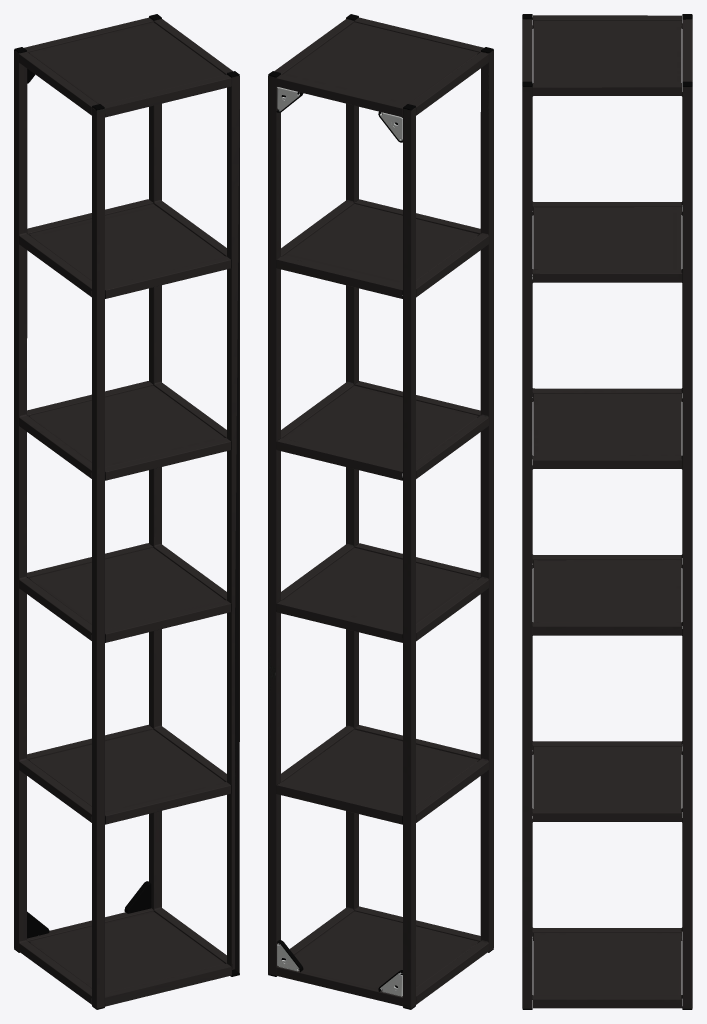
File: enhet_obudowa_wysoka_z_pokami_20448947.glb
The picture shows the model from 3 angles, left to right: view 1: azimuth 30°, elevation 25°; view 2: azimuth 150°, elevation 25°; view 3: azimuth 270°, elevation 25°; orthographic projection. The views are drawn at different scales.
Parts seen in each view (by area): view 1: enhet_obudowa_wysoka_z_pokami_20448947; view 2: enhet_obudowa_wysoka_z_pokami_20448947; view 3: enhet_obudowa_wysoka_z_pokami_20448947.
Part boxes in pixels (bbox=[...]): enhet_obudowa_wysoka_z_pokami_20448947: bbox=[14, 14, 239, 1009]; enhet_obudowa_wysoka_z_pokami_20448947: bbox=[268, 14, 493, 1009]; enhet_obudowa_wysoka_z_pokami_20448947: bbox=[522, 14, 692, 1009].
Size of the model in its own units: 0.3001 by 1.8 by 0.3001.
Materials: 1 (1 with a texture image).
